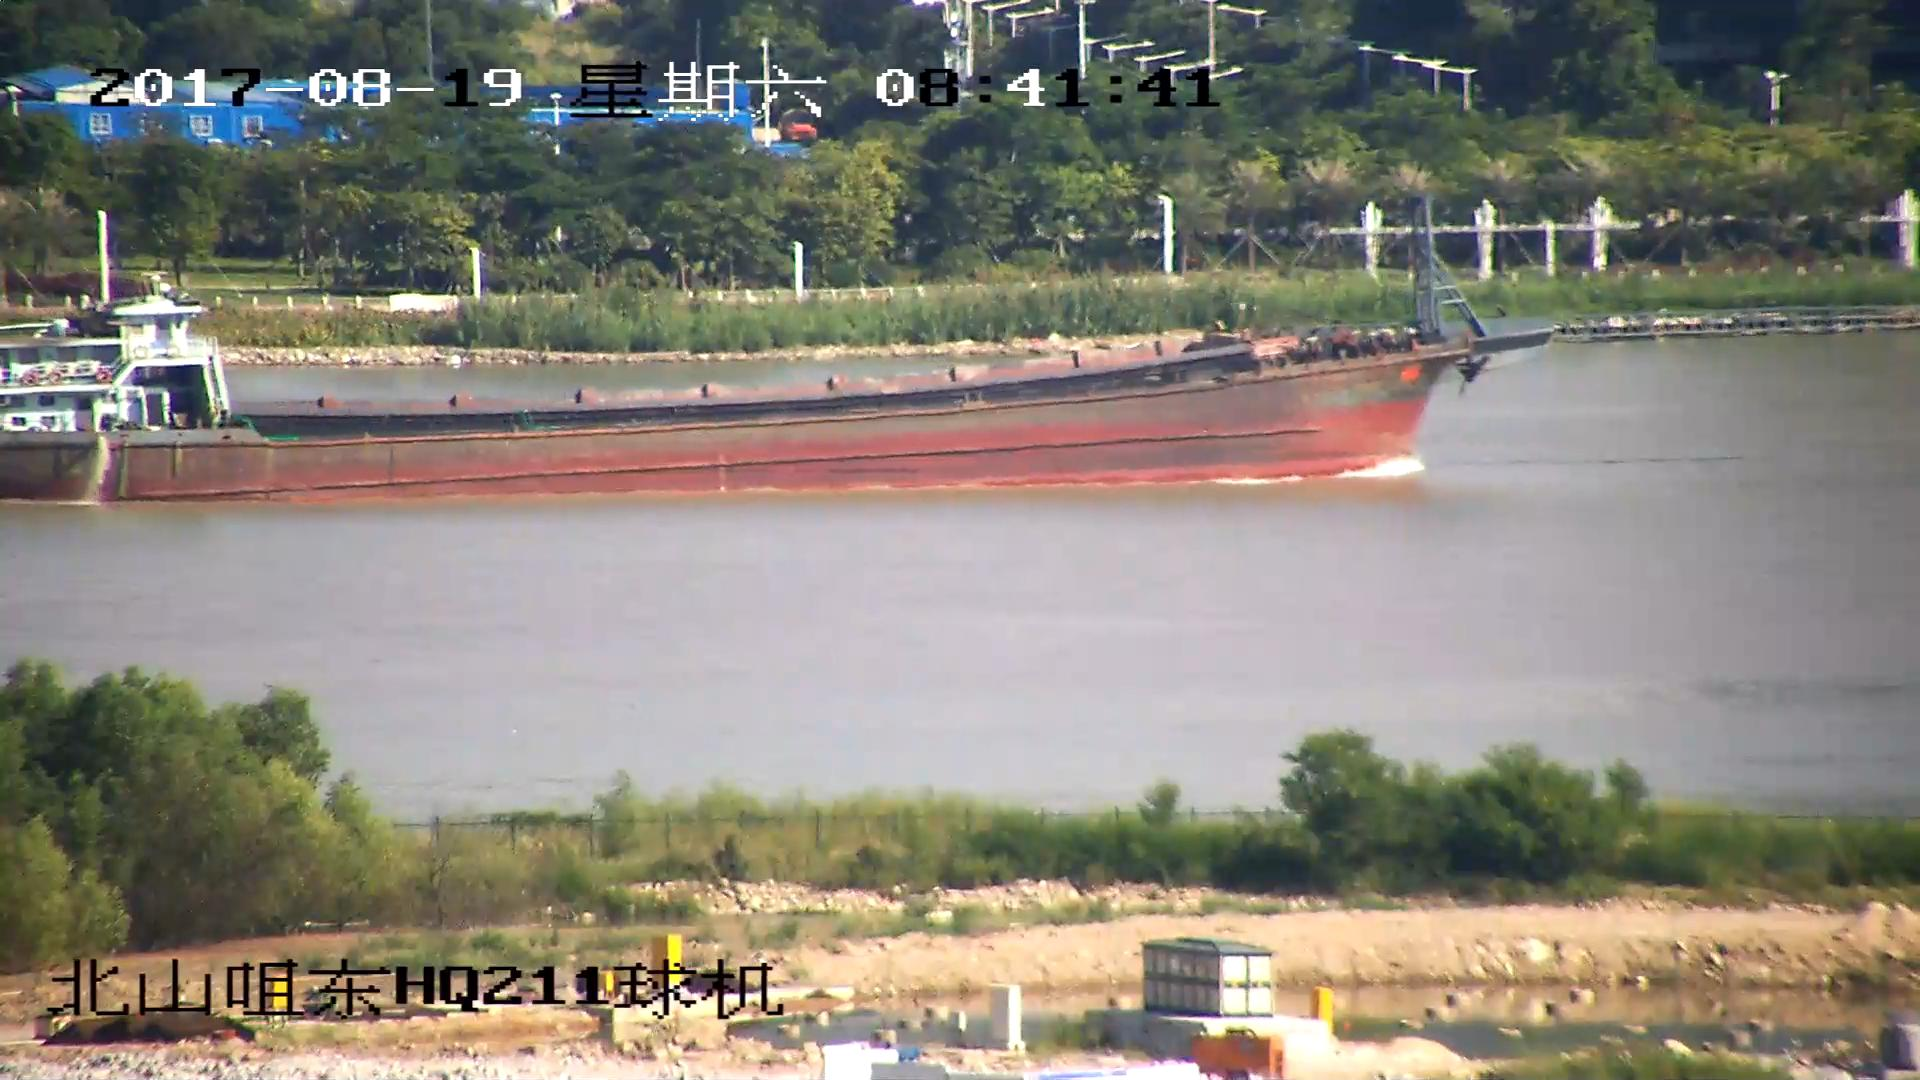bulk cargo carrier: (1, 204, 1920, 498)
